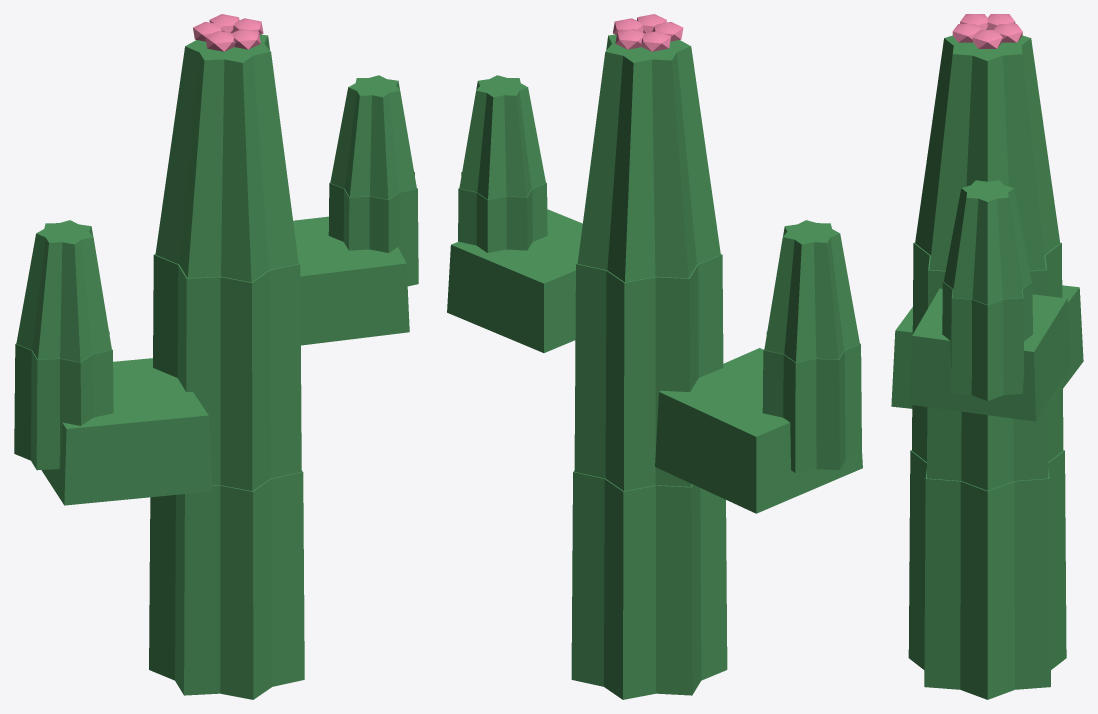
Rendered from cactus.glb.
The picture shows the model from 3 angles, left to right: view 1: azimuth 30°, elevation 25°; view 2: azimuth 150°, elevation 25°; view 3: azimuth 270°, elevation 25°; orthographic projection.
Parts seen in each view (by area): view 1: Cactus, Flower; view 2: Cactus, Flower; view 3: Cactus, Flower.
Boxes of the visible parts, <box> form: Cactus: <box>14,34,418,699</box>; Flower: <box>193,14,263,51</box>; Cactus: <box>447,34,862,699</box>; Flower: <box>613,14,683,51</box>; Cactus: <box>891,29,1083,699</box>; Flower: <box>952,14,1022,48</box>.
Bounding box in the file's own units: 2.79 × 4.39 × 1.19.
